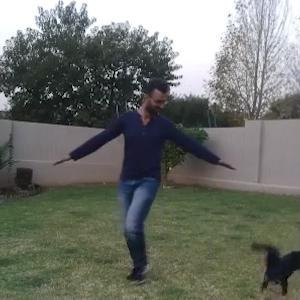land: (77, 80, 241, 262)
